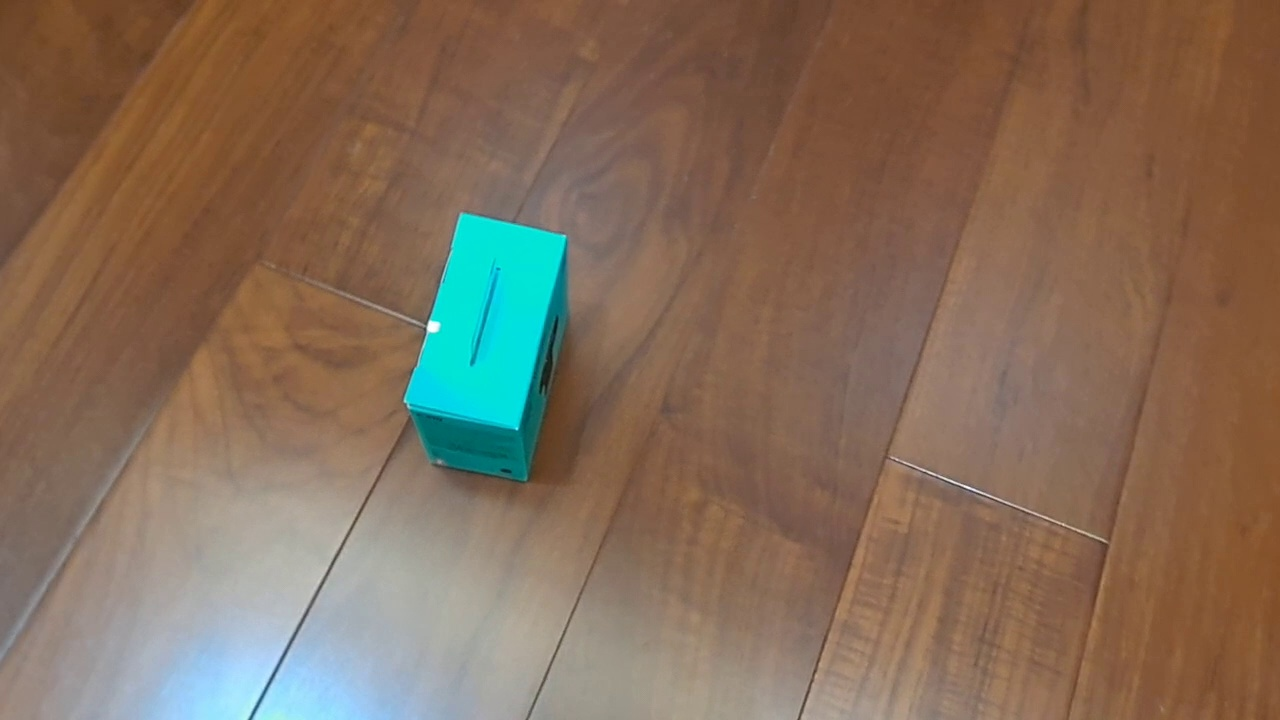webcam: (402, 211, 570, 483)
